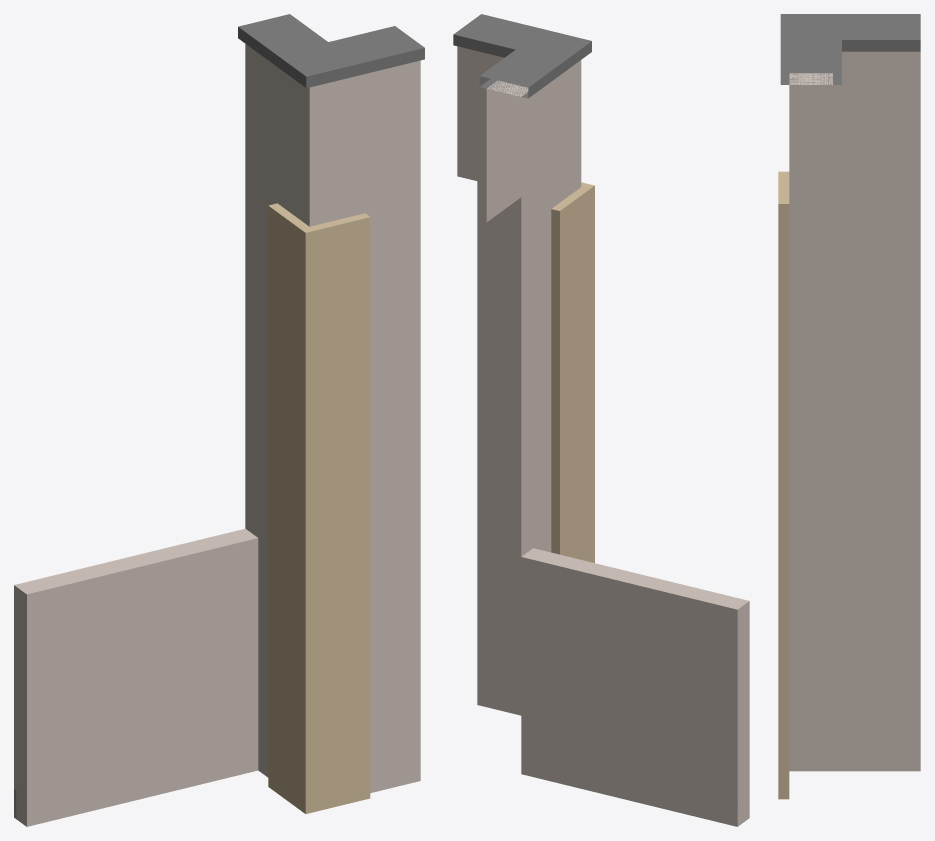
File: top-c4.fbx
The picture shows the model from 3 angles, left to right: view 1: azimuth 30°, elevation 25°; view 2: azimuth 150°, elevation 25°; view 3: azimuth 270°, elevation 25°; orthographic projection. The views are drawn at different scales.
Parts seen in each view (by area): view 1: a2001/200/top-c4; view 2: a2001/200/top-c4; view 3: a2001/200/top-c4.
Boxes of the visible parts, x1,y1,x2,y2 form: a2001/200/top-c4: (14, 14, 424, 826); a2001/200/top-c4: (453, 14, 749, 826); a2001/200/top-c4: (778, 14, 920, 799).
Size of the model in its own units: 1.85 by 3.8 by 0.65.
